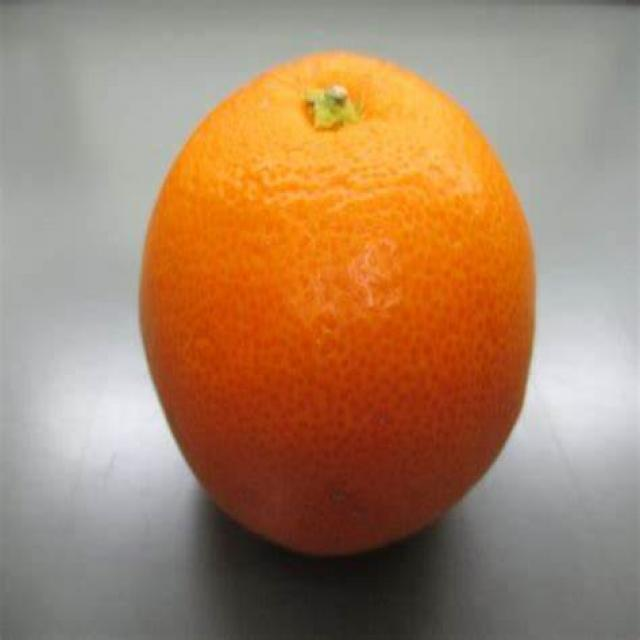Orange: (135, 50, 536, 558)
